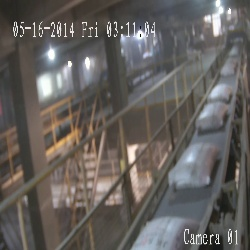cementbag: (130, 216, 199, 250), (167, 142, 218, 187), (196, 101, 228, 130), (207, 83, 232, 102)
